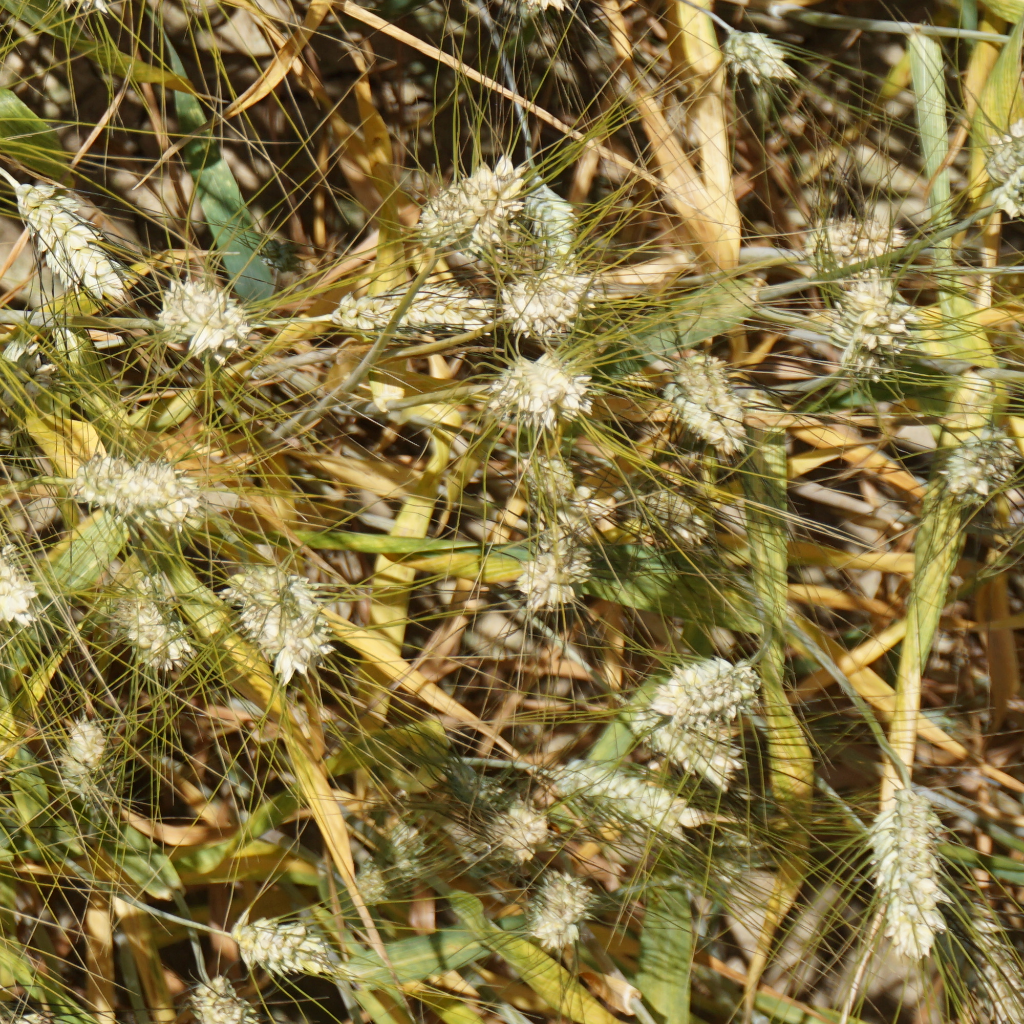Arvalis_3: (17, 183, 125, 303), (217, 562, 329, 674), (548, 754, 682, 834), (877, 785, 940, 949), (422, 160, 526, 256), (72, 453, 199, 530), (335, 284, 488, 345), (822, 283, 914, 375), (645, 661, 752, 732), (630, 721, 740, 790), (497, 349, 592, 428), (161, 280, 253, 361), (672, 353, 740, 458), (118, 580, 194, 665), (521, 175, 580, 279), (515, 528, 586, 612), (239, 920, 340, 978), (59, 717, 125, 805), (502, 273, 594, 332), (937, 426, 1016, 494), (528, 872, 595, 952), (812, 223, 902, 277), (968, 945, 1024, 1022), (637, 494, 706, 549), (729, 31, 791, 82), (523, 453, 581, 507), (497, 812, 555, 865), (0, 555, 44, 623), (390, 827, 440, 885), (193, 978, 252, 1023), (444, 765, 504, 808), (985, 121, 1024, 181), (355, 862, 396, 899), (996, 168, 1024, 217)
